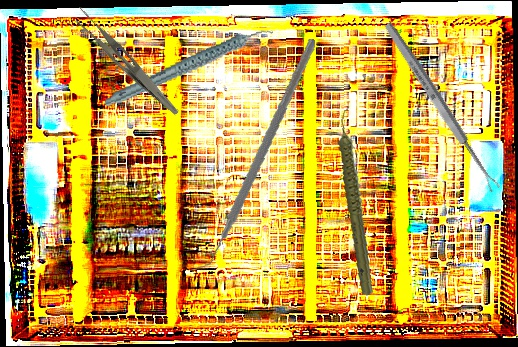Chopper: (163, 38, 341, 272)
Dressing Forceps: (66, 4, 190, 117)
Handpiece: (97, 27, 281, 109), (320, 104, 394, 298)
Surgical Spoon: (382, 20, 501, 194)
